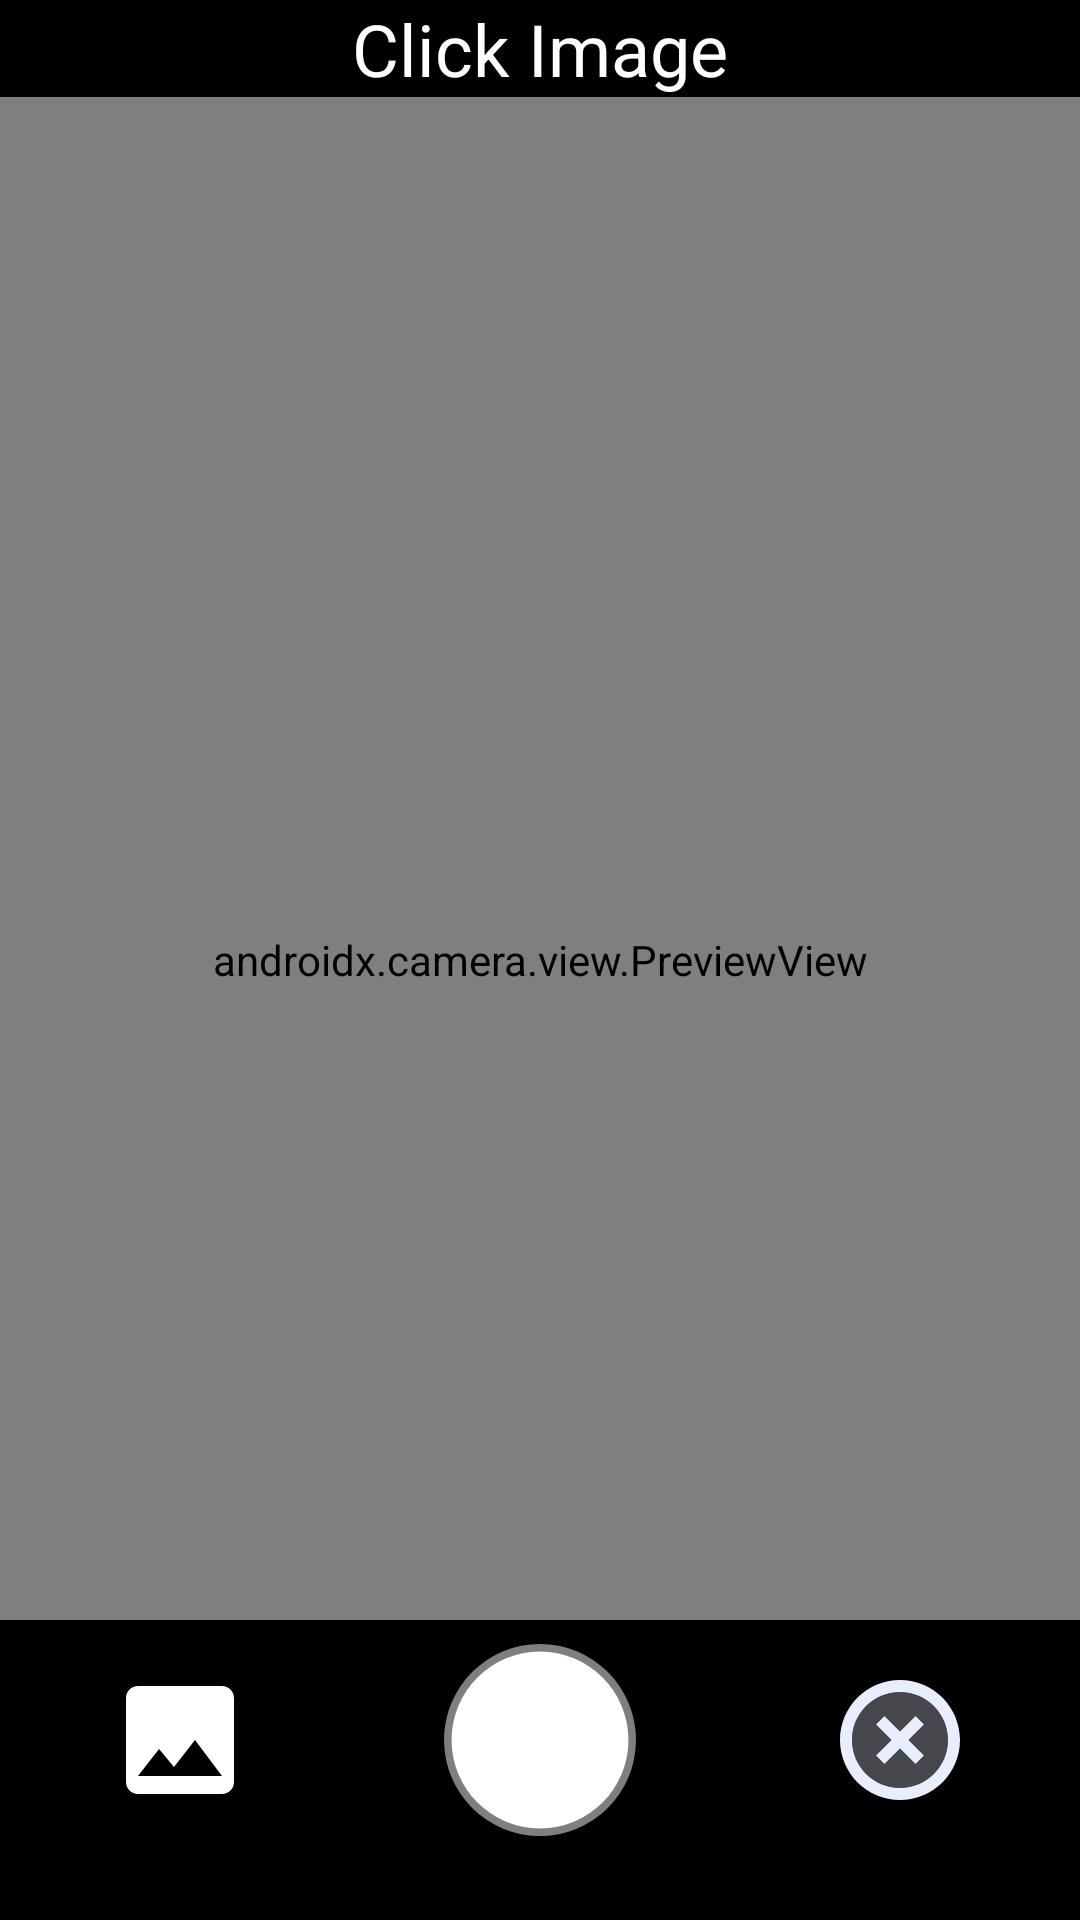

Where icons sit on this 1080px×1920px app screen, as (x1, y1, x2, y2):
close: (840, 1680, 960, 1800)
photo: (126, 1686, 234, 1794)
take picture: (444, 1644, 636, 1836)
